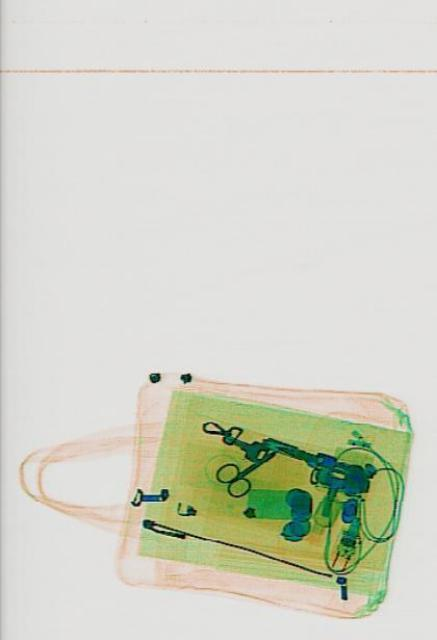Scissors: (211, 432, 280, 504)
